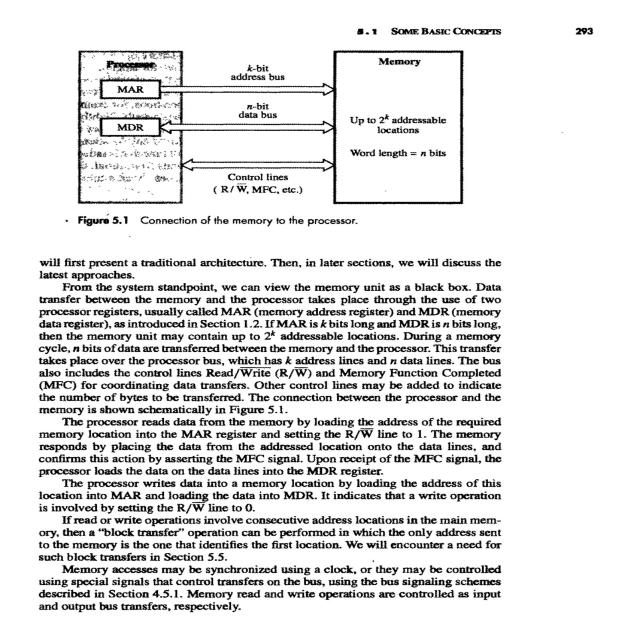diagram: (13, 36, 507, 245)
